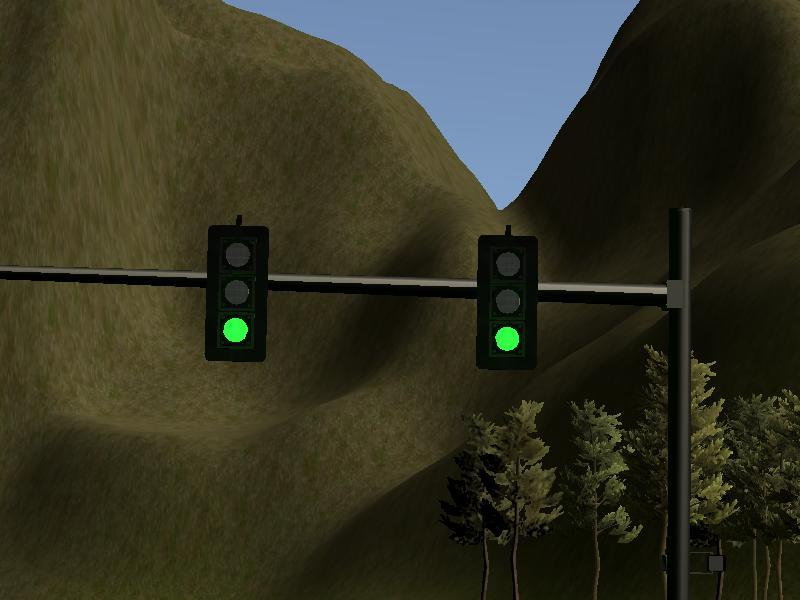Green: (206, 224, 267, 362), (477, 235, 538, 368)
